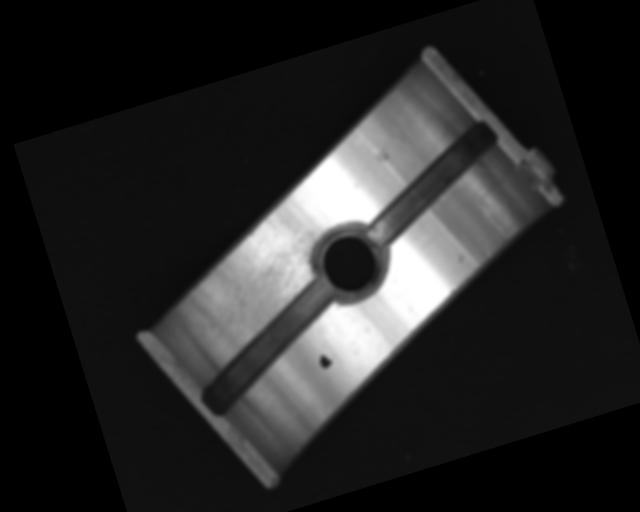blot: (316, 350, 334, 371)
bruise: (372, 144, 392, 166), (453, 252, 466, 264)
gap: (178, 276, 356, 418), (344, 117, 517, 248)
hole: (304, 213, 394, 311)
nick: (476, 194, 513, 245)
scratch: (179, 188, 357, 355)
